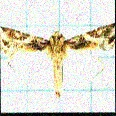Spodoptera litura: (1, 13, 115, 99)
